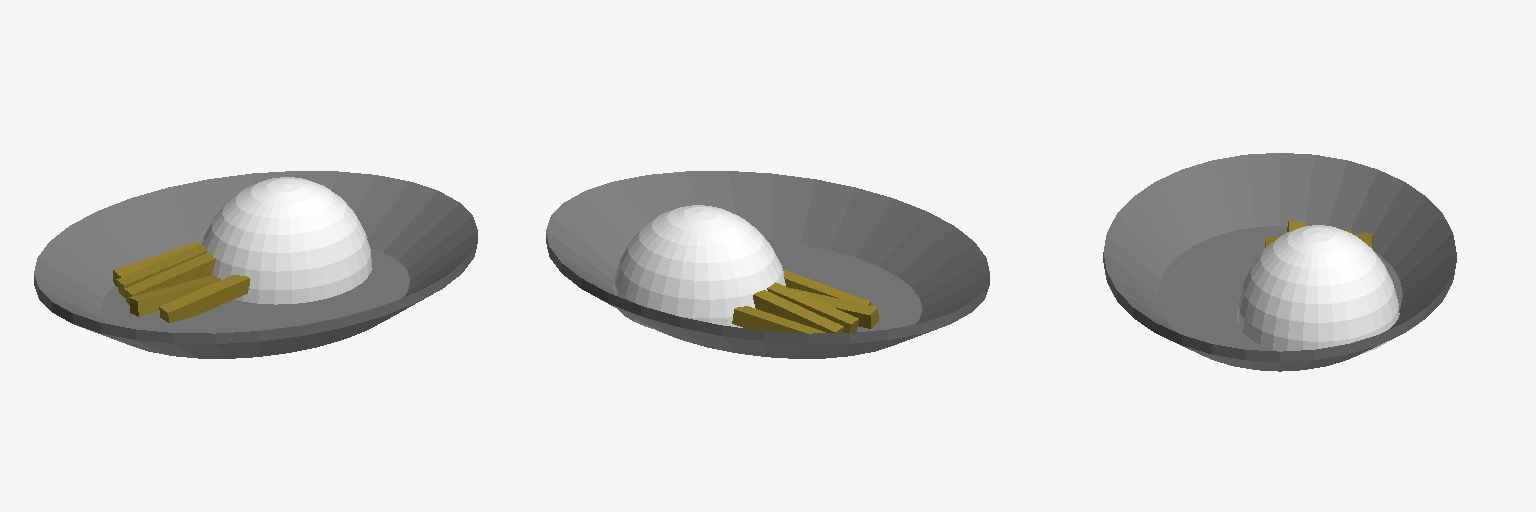
File: rice3_meat2_veg0.obj
3 renders of one model, left to right at view 1: azimuth 30°, elevation 25°; view 2: azimuth 150°, elevation 25°; view 3: azimuth 270°, elevation 25°, orthographic.
Parts seen in each view (by area): view 1: Cylinder, Sphere, Cube.004_Cube.005, Cube.001_Cube.002, Cube.002_Cube.003, Cube_Cube.001, Cube.003_Cube.004; view 2: Cylinder, Sphere, Cube_Cube.001, Cube.003_Cube.004, Cube.001_Cube.002, Cube.002_Cube.003, Cube.004_Cube.005; view 3: Cylinder, Sphere.
Boxes of the visible parts, x1,y1,x2,y2 form: Cylinder: [34, 171, 477, 358]; Sphere: [202, 177, 371, 304]; Cube.004_Cube.005: [159, 274, 249, 322]; Cube.001_Cube.002: [124, 253, 215, 303]; Cube.002_Cube.003: [129, 275, 220, 316]; Cube_Cube.001: [116, 244, 206, 297]; Cube.003_Cube.004: [113, 242, 200, 286]; Cylinder: [546, 171, 989, 358]; Sphere: [614, 205, 785, 330]; Cube_Cube.001: [753, 290, 843, 332]; Cube.003_Cube.004: [732, 306, 825, 333]; Cube.001_Cube.002: [767, 282, 858, 332]; Cube.002_Cube.003: [791, 288, 878, 328]; Cube.004_Cube.005: [784, 270, 870, 305]; Cylinder: [1103, 153, 1456, 371]; Sphere: [1237, 225, 1399, 353].
Size of the model in its own units: 5.75 by 1.25 by 4.31.